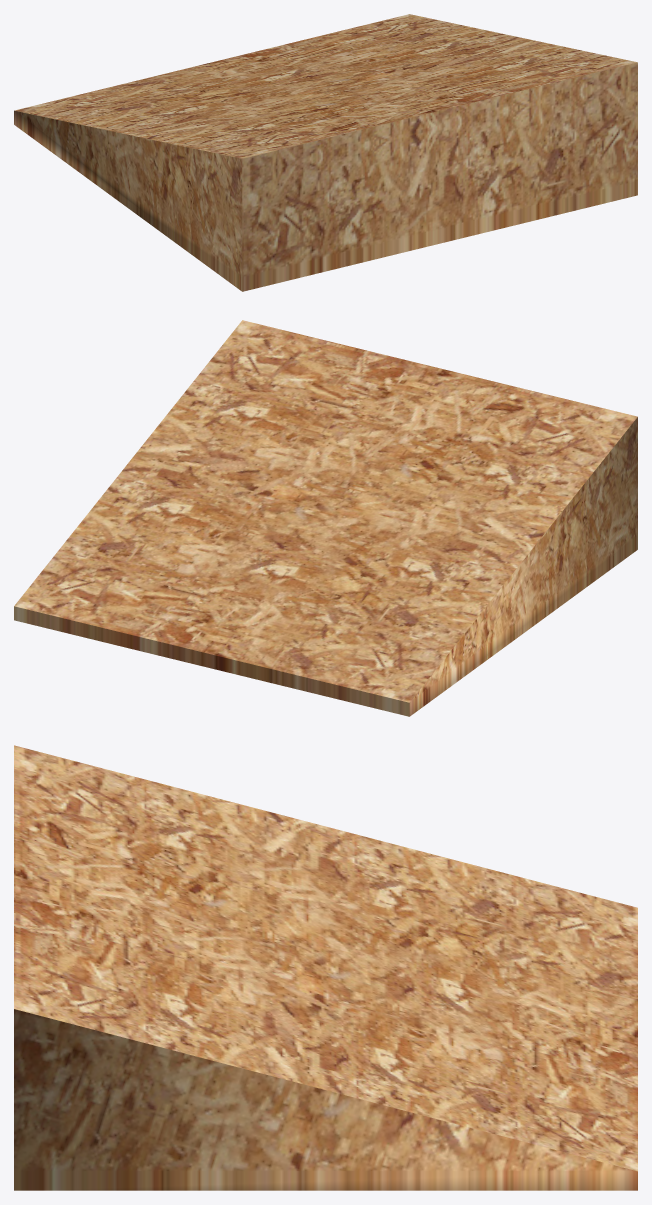
File: full_ramp_elevated_2.dae
3 views of the same model, one above another, from view 1: azimuth 30°, elevation 25°; view 2: azimuth 150°, elevation 25°; view 3: azimuth 270°, elevation 25° (orthographic). The views are drawn at different scales.
Visible parts, largest first — view 1: Plane; view 2: Plane; view 3: Plane.
Part boxes in pixels (x1,y1,x2,y2): Plane: (14,14,637,291); Plane: (14,320,637,716); Plane: (14,745,637,1190).
Bounding box in the file's own units: 1.18 × 1.18 × 0.3791.
1 material, 1 textured.
